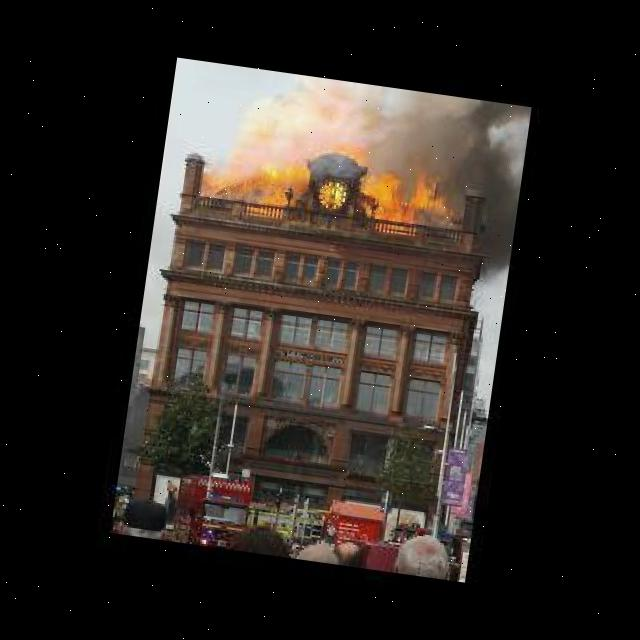fire: (204, 130, 461, 246), (441, 98, 528, 287)
